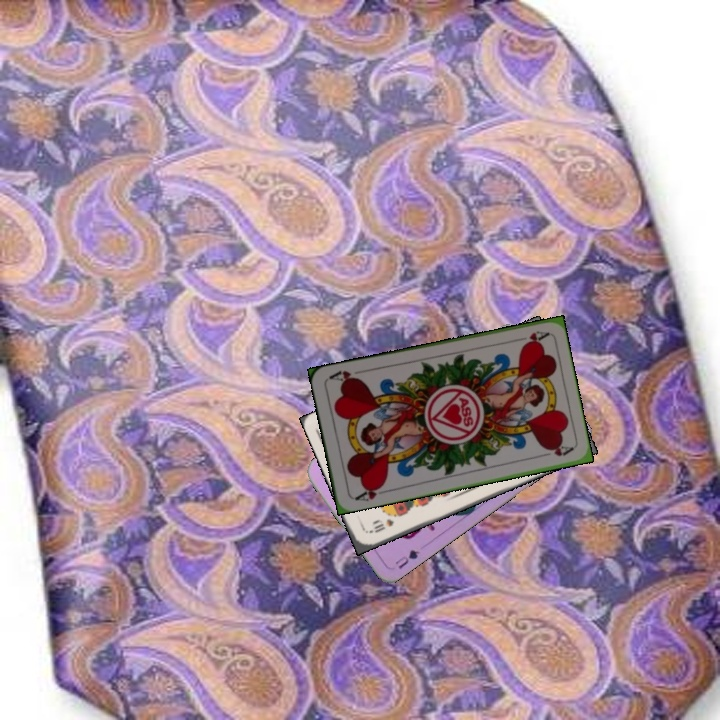GU: (391, 545, 422, 572)
HA: (351, 480, 390, 504), (510, 327, 550, 347)
S10: (365, 515, 396, 536)
